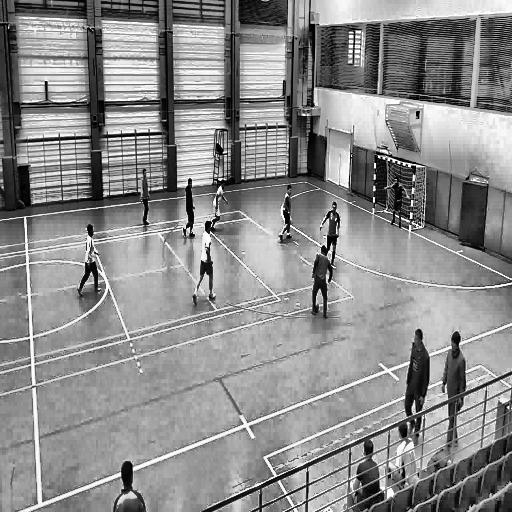ball: (314, 300, 321, 314)
player: (439, 330, 466, 450), (405, 322, 430, 451), (191, 220, 218, 310), (77, 224, 105, 300), (310, 244, 332, 323), (318, 201, 342, 273), (383, 176, 410, 232), (278, 183, 295, 245), (210, 179, 229, 234), (182, 174, 197, 241), (139, 168, 151, 228)
